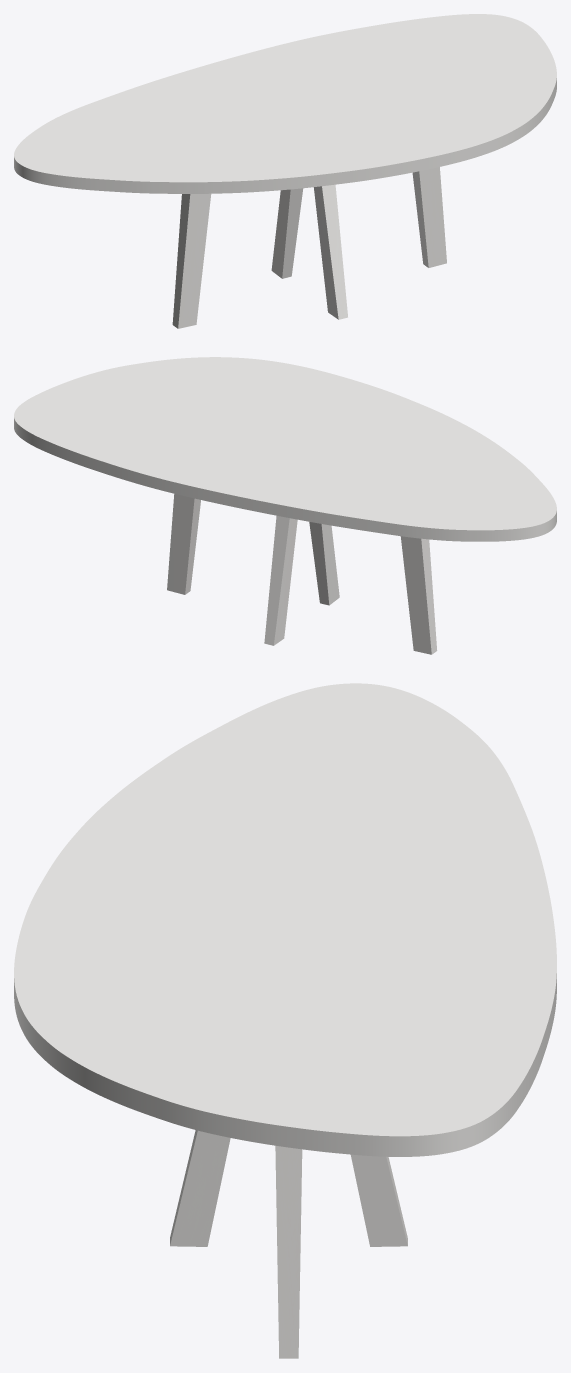
The model's file is purewhite_pebbletop_standard_searwalnut.glb.
3 views of the same model, one above another, from view 1: azimuth 30°, elevation 25°; view 2: azimuth 150°, elevation 25°; view 3: azimuth 270°, elevation 25° (orthographic). The views are drawn at different scales.
Visible parts, largest first — view 1: standard_pebbletop, searwalnut; view 2: standard_pebbletop, searwalnut; view 3: standard_pebbletop, searwalnut.
Part boxes in pixels (x1=…): standard_pebbletop: x1=14, y1=14, x2=556, y2=193; searwalnut: x1=172, y1=167, x2=446, y2=328; standard_pebbletop: x1=14, y1=357, x2=556, y2=541; searwalnut: x1=167, y1=494, x2=437, y2=654; standard_pebbletop: x1=14, y1=683, x2=556, y2=1156; searwalnut: x1=170, y1=1130, x2=407, y2=1358.
Bounding box in the file's own units: 7.5 × 2.51 × 3.8.
Materials: 1 (1 with a texture image).
